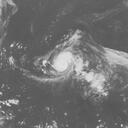cyclone: (38, 30, 127, 97)
